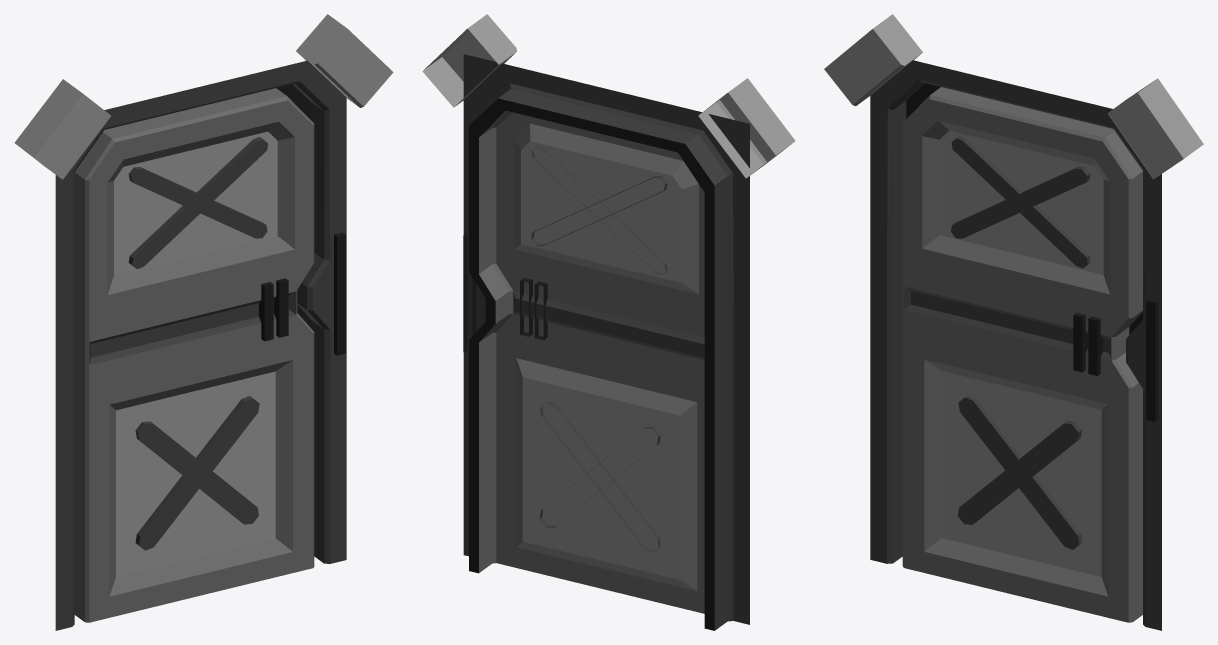
File: door_static_A.FBX
The picture shows the model from 3 angles, left to right: view 1: azimuth 30°, elevation 25°; view 2: azimuth 150°, elevation 25°; view 3: azimuth 330°, elevation 25°; orthographic projection.
Parts seen in each view (by area): view 1: door_static_A; view 2: door_static_A; view 3: door_static_A.
Boxes of the visible parts, bbox=[...] form: door_static_A: bbox=[14, 14, 393, 630]; door_static_A: bbox=[422, 14, 795, 630]; door_static_A: bbox=[824, 14, 1203, 630].
Bounding box in the file's own units: 88.38 × 128 × 11.82.
